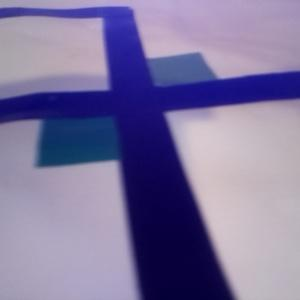bottom_left: (37, 93, 164, 166)
top_right: (110, 52, 217, 105)
